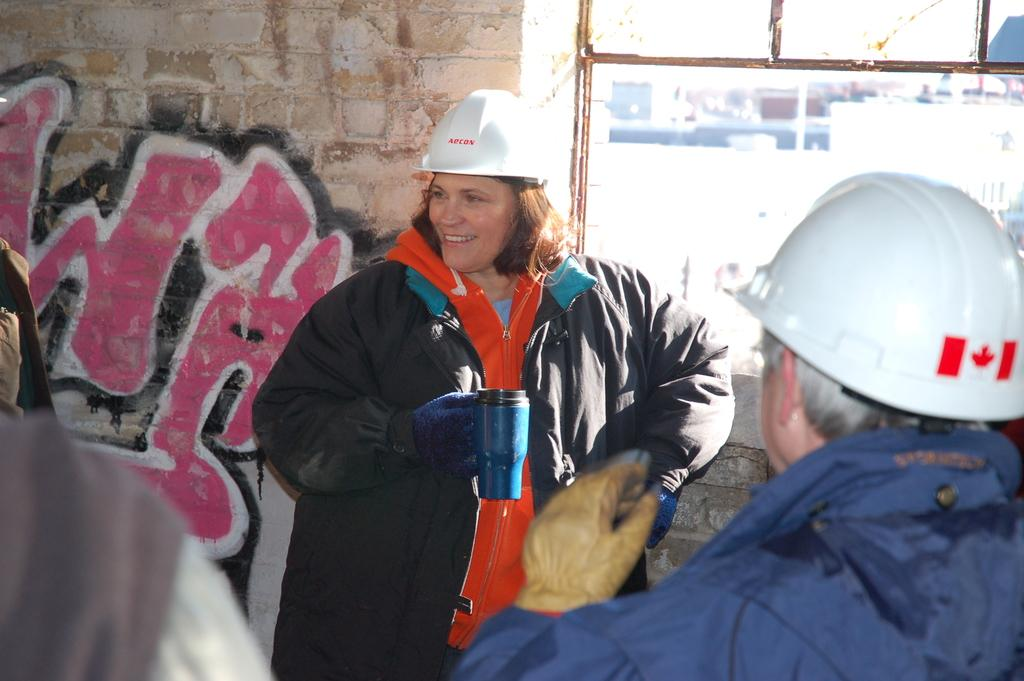helmet: (723, 171, 1024, 481), (411, 89, 556, 267)
